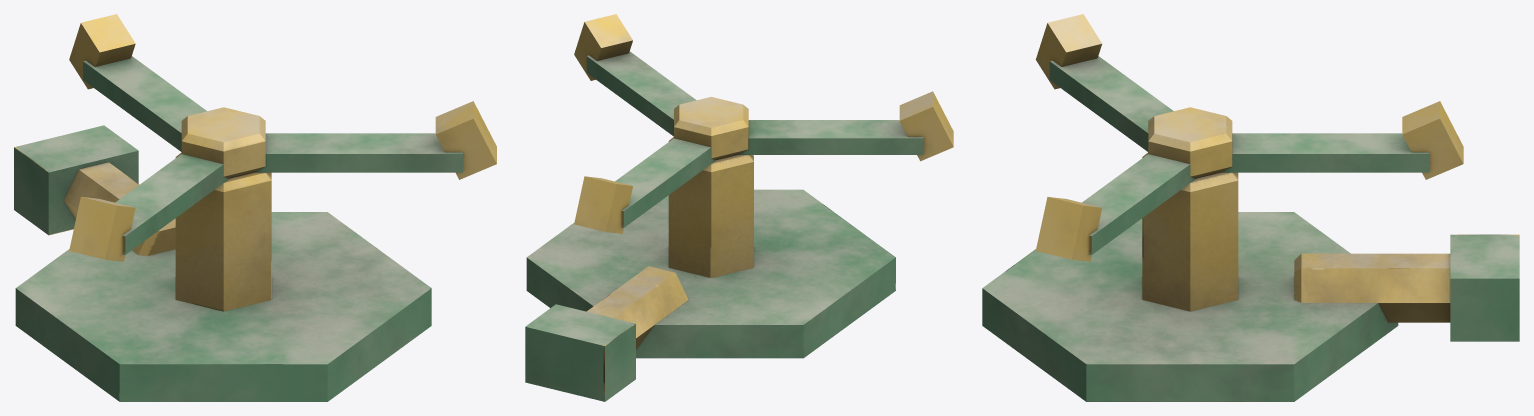
File: garden_sprinkler.fbx
3 renders of one model, left to right at view 1: azimuth 30°, elevation 25°; view 2: azimuth 150°, elevation 25°; view 3: azimuth 270°, elevation 25°, orthographic. The views are drawn at different scales.
Parts seen in each view (by area): view 1: Body, Spin; view 2: Body, Spin; view 3: Body, Spin.
Part boxes in pixels (left/top/right/bottom): Body: left=14, top=125, right=431, bottom=401; Spin: left=69, top=14, right=496, bottom=261; Body: left=525, top=137, right=895, bottom=401; Spin: left=574, top=14, right=953, bottom=233; Body: left=982, top=152, right=1519, bottom=401; Spin: left=1035, top=14, right=1463, bottom=261.
Bounding box in the file's own units: 1.43 × 0.6879 × 1.55.
Materials: 1 (1 with a texture image).
